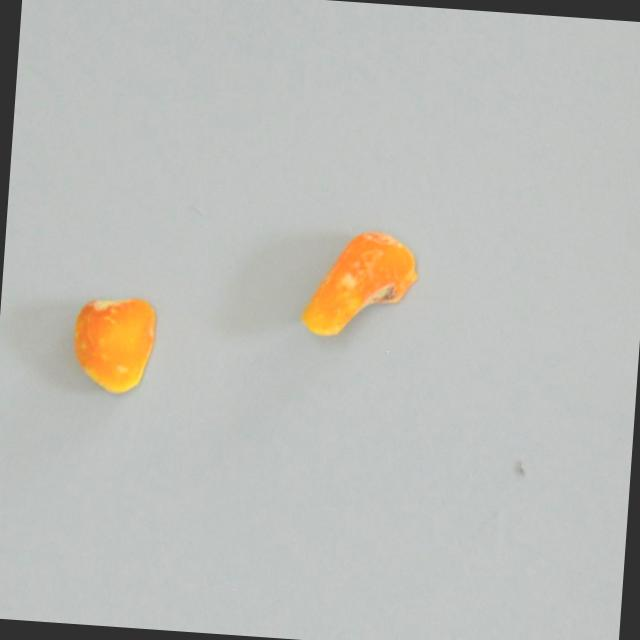dañado: (298, 225, 419, 344), (65, 289, 162, 398)
